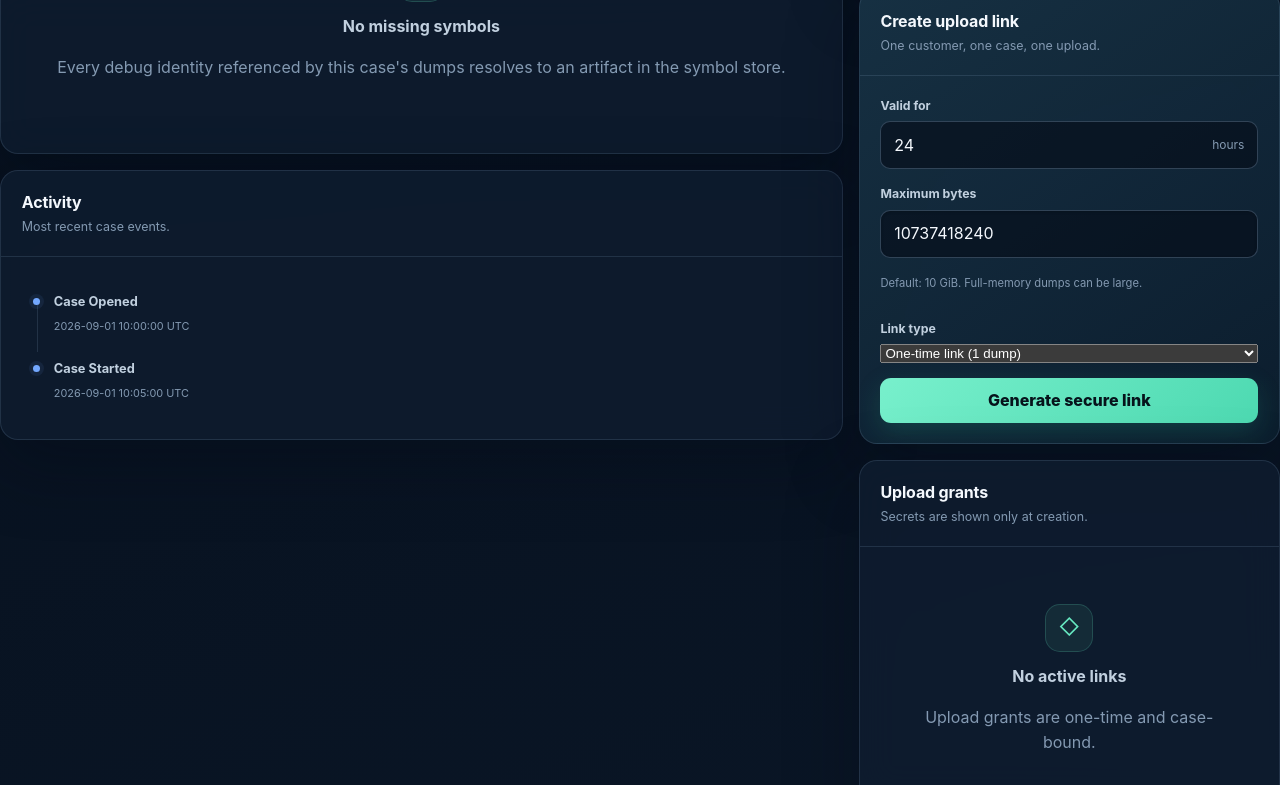
Scenario: Upload grant operator flows › surfaces a grant-creation failure and moves focus to the alert
This screenshot has width=1280, height=785.
(page scrolled)
Click the button "Generate secure link".
click(1069, 400)  # box [880,378,1258,423]
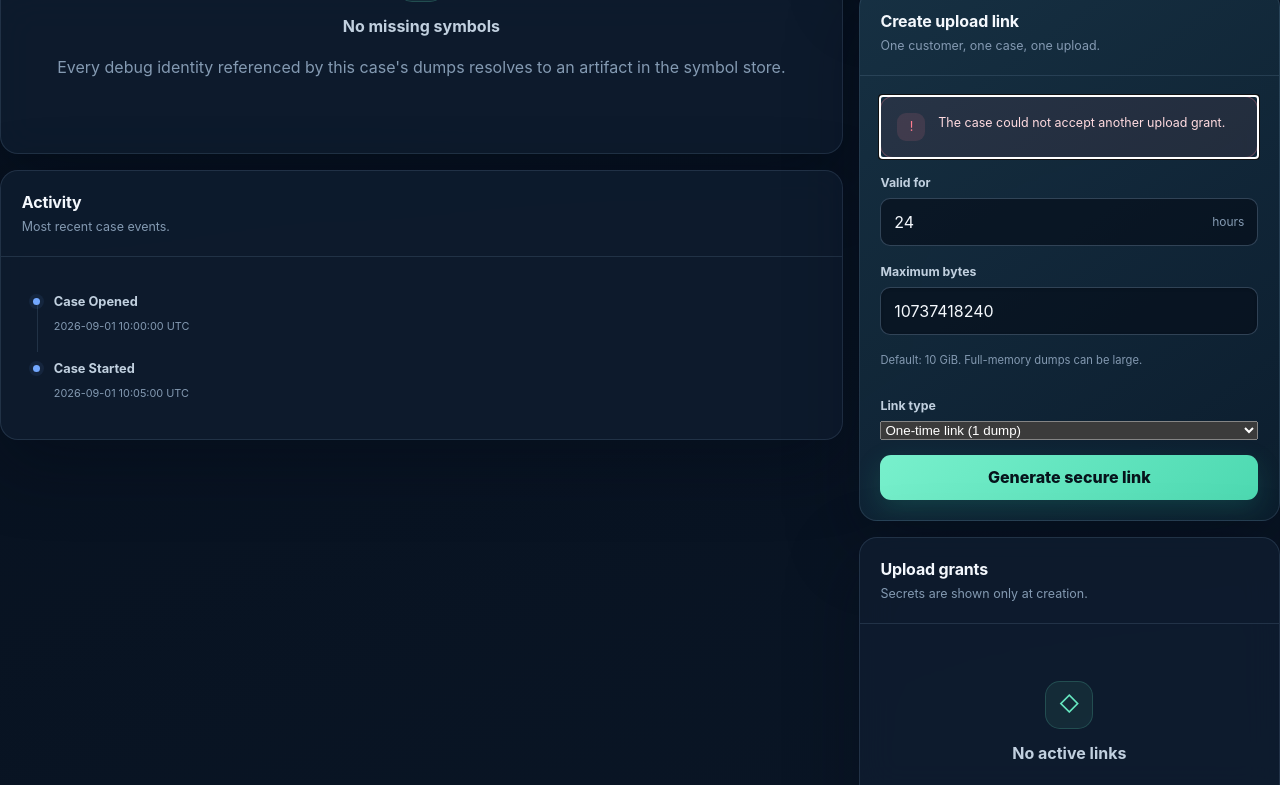
Expected: the button "Generate secure link" is enabled, [880,455,1258,500]
Now the message shows "The case could not accept another upload grant.", box [938,115,1225,130]
